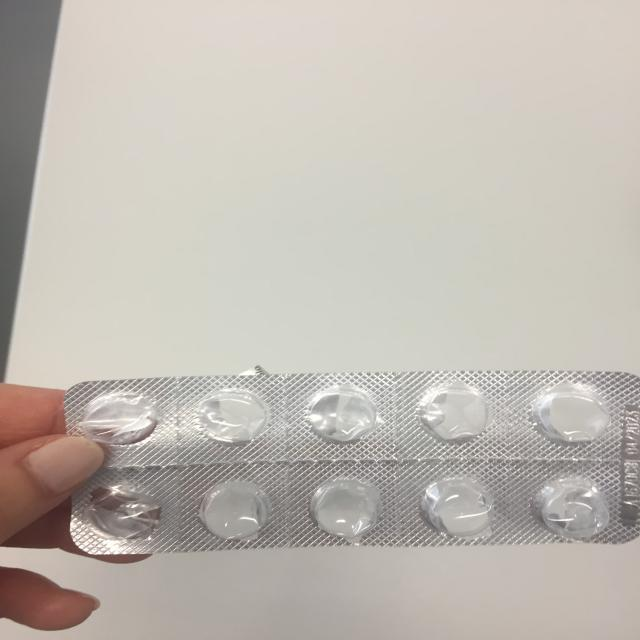Empty: (302, 474, 393, 541), (409, 379, 498, 446), (413, 475, 503, 541), (298, 383, 386, 450), (186, 383, 272, 450), (195, 476, 280, 542), (530, 379, 609, 447), (532, 475, 613, 541), (77, 386, 165, 445), (80, 483, 164, 542)
